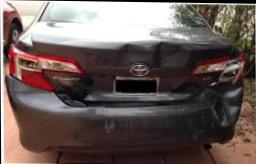Bumper: (86, 88, 240, 148)
Light: (199, 58, 245, 83)
